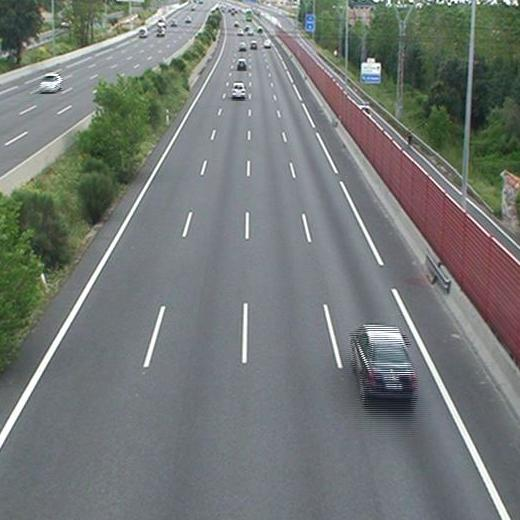car: (353, 327, 417, 398), (231, 82, 245, 98), (236, 58, 246, 69), (238, 42, 247, 49), (249, 41, 256, 49), (263, 40, 270, 47)
